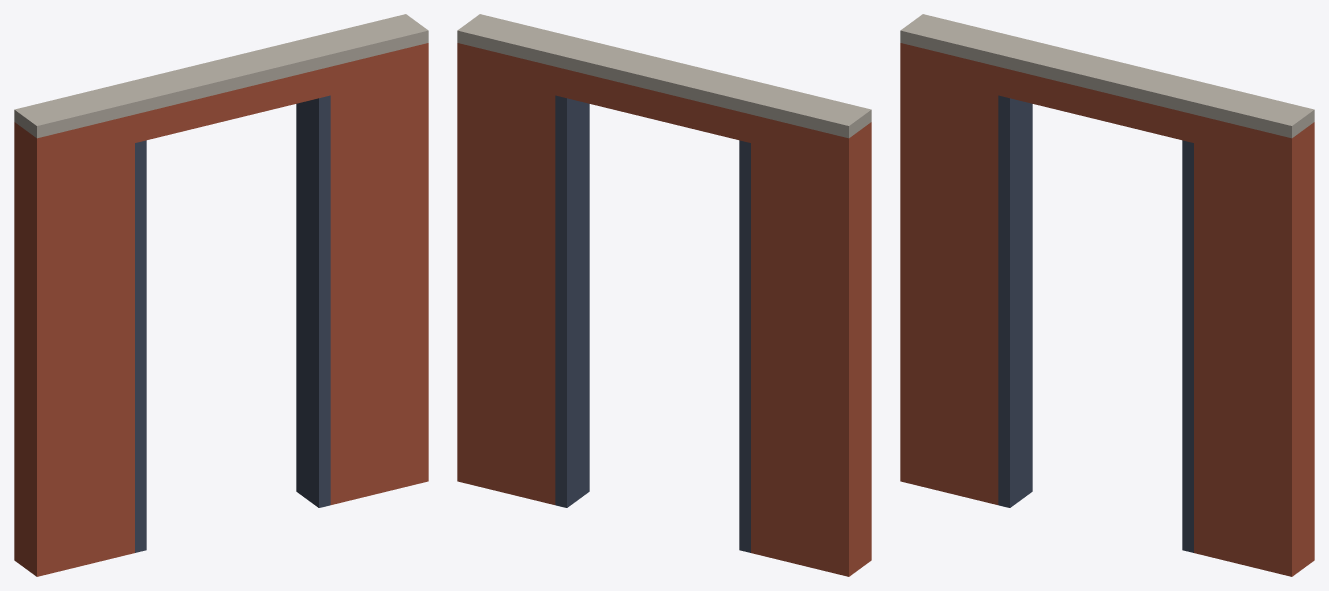
File: raum_wand_tuer.glb
The picture shows the model from 3 angles, left to right: view 1: azimuth 30°, elevation 25°; view 2: azimuth 150°, elevation 25°; view 3: azimuth 330°, elevation 25°; orthographic projection.
Visible parts, largest first — view 1: raum_wand_tuer; view 2: raum_wand_tuer; view 3: raum_wand_tuer.
Part boxes in pixels (box(x1,y1,x2,y2)): raum_wand_tuer: box(14, 14, 428, 576); raum_wand_tuer: box(457, 14, 871, 576); raum_wand_tuer: box(900, 14, 1314, 576).
Size of the model in its own units: 2 by 2.2 by 0.2.
